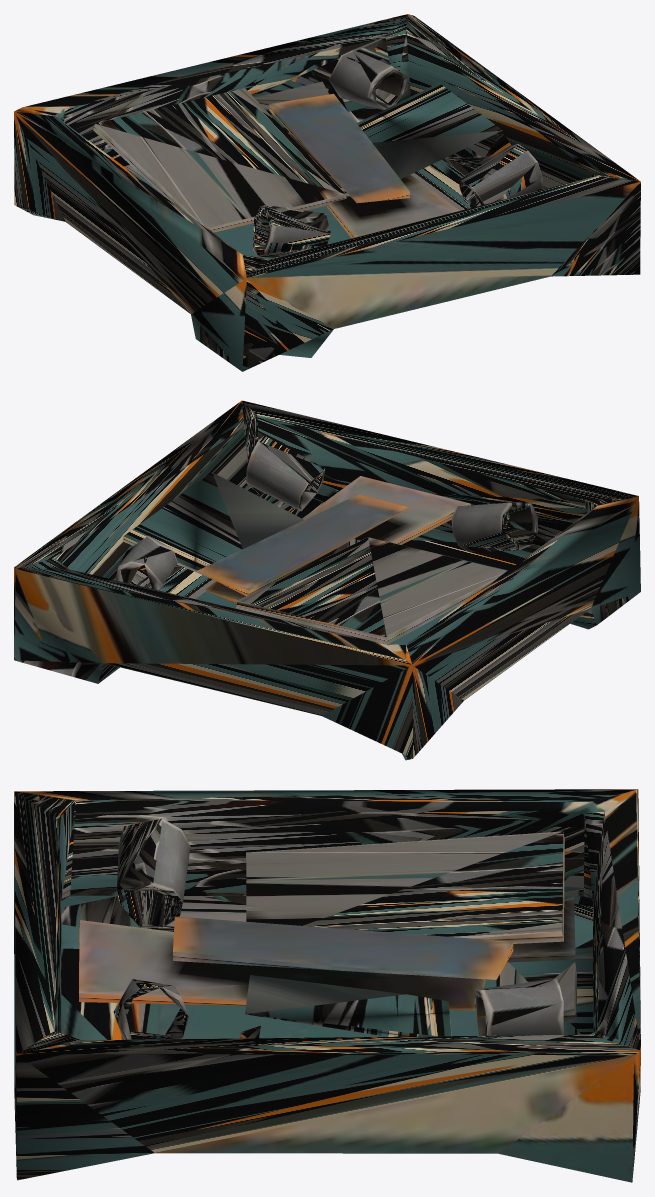
The model's file is source_metal-lod1.fc5208d5b78a.glb.
The picture shows the model from 3 angles, top to bottom: view 1: azimuth 30°, elevation 25°; view 2: azimuth 150°, elevation 25°; view 3: azimuth 270°, elevation 25°; orthographic projection. The views are drawn at different scales.
Visible parts, largest first — view 1: geometry_0; view 2: geometry_0; view 3: geometry_0.
Boxes of the visible parts, x1,y1,x2,y2 form: geometry_0: (14, 14, 640, 371); geometry_0: (14, 400, 640, 760); geometry_0: (14, 789, 640, 1182).
Bounding box in the file's own units: 0.9978 × 0.2823 × 0.9932.
1 material, 1 textured.
